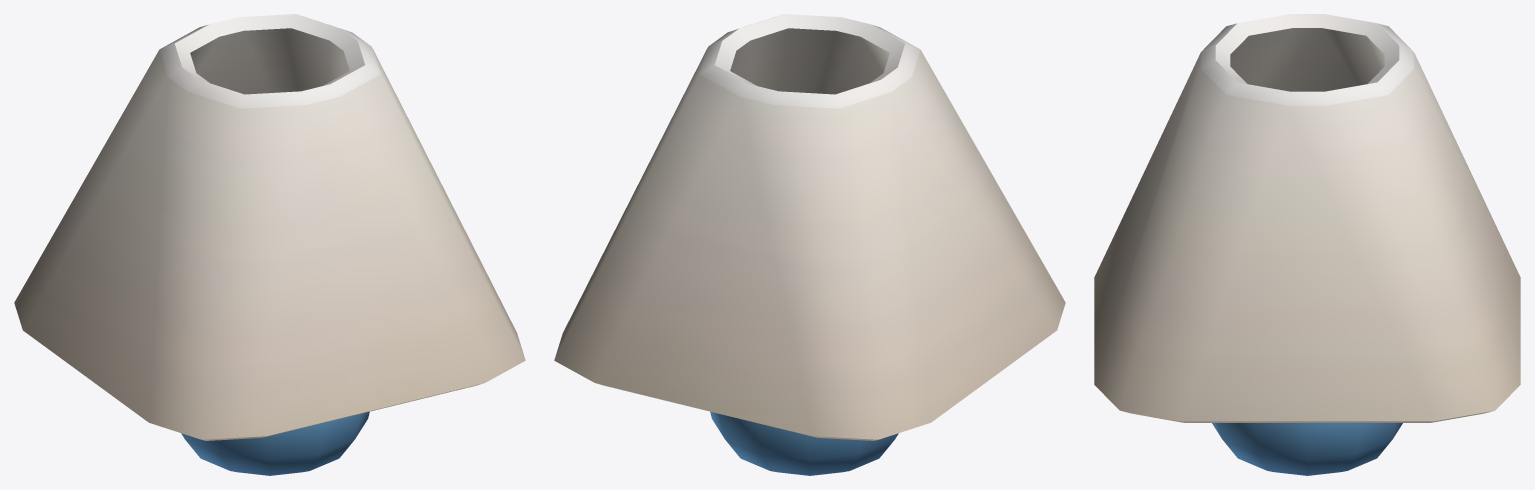
File: kay-abajur.gltf
The picture shows the model from 3 angles, left to right: view 1: azimuth 30°, elevation 25°; view 2: azimuth 150°, elevation 25°; view 3: azimuth 270°, elevation 25°; orthographic projection.
Visible parts, largest first — view 1: lamp_table; view 2: lamp_table; view 3: lamp_table.
Part boxes in pixels (x1,y1,x2,y2): lamp_table: [14, 14, 525, 475]; lamp_table: [554, 14, 1065, 475]; lamp_table: [1094, 14, 1520, 475].
Bounding box in the file's own units: 0.65 × 0.6641 × 0.65.
1 material, 1 textured.
